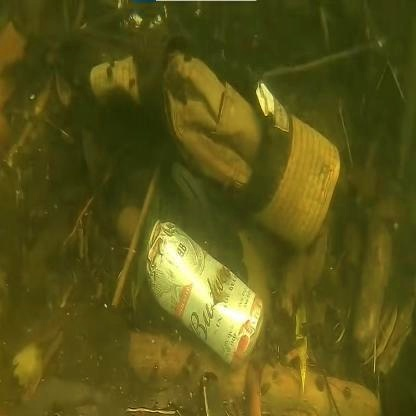can: (128, 201, 284, 354)
misc: (174, 38, 354, 252)
